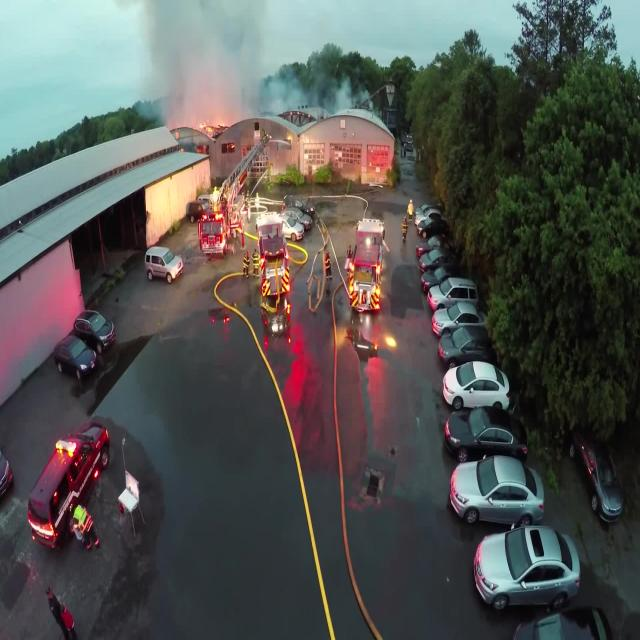Fire: (142, 0, 380, 122)
